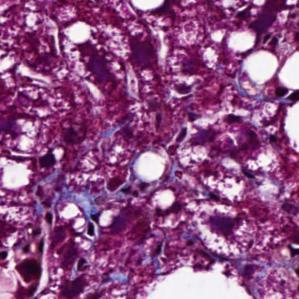inflammation: (188, 198, 255, 262), (7, 232, 48, 285), (168, 108, 209, 149), (163, 71, 204, 98)
